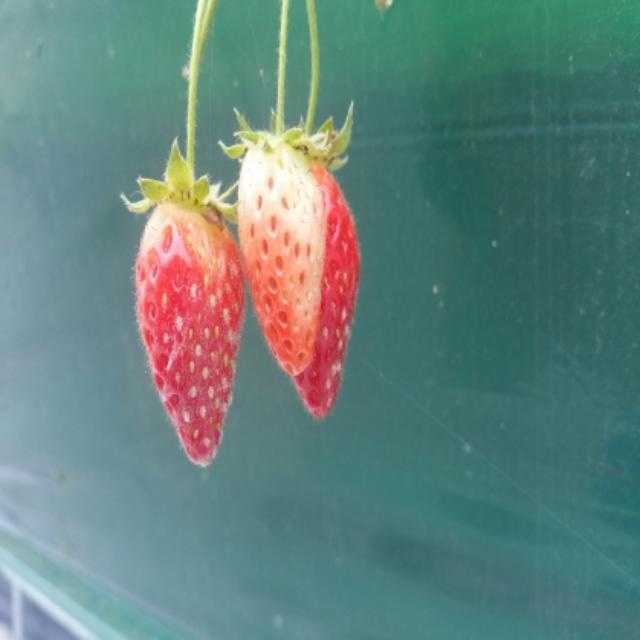Powdery Mildew Fruit: (236, 132, 360, 419), (135, 187, 247, 470)
